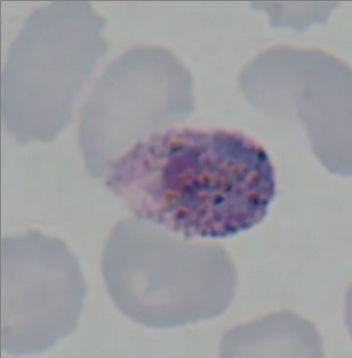Infected: (111, 123, 276, 238)
Uninfected: (80, 43, 197, 178), (238, 43, 352, 178), (0, 4, 108, 144), (103, 217, 236, 328), (0, 227, 84, 354)
